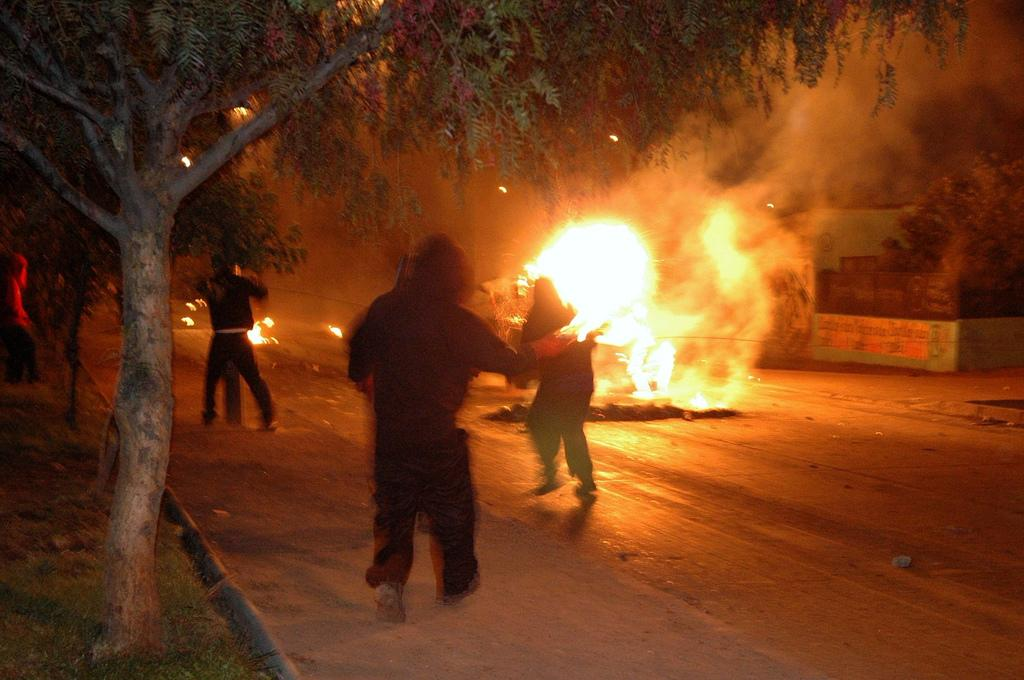fire: (713, 213, 783, 328), (562, 233, 653, 313)
